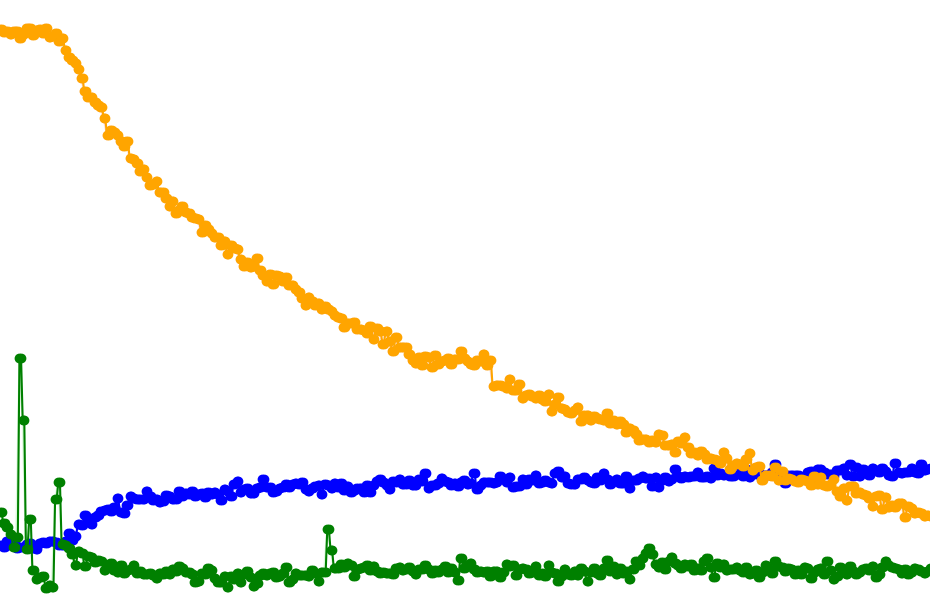CO2 Problem: (311, 0, 583, 616), (777, 0, 930, 616), (349, 0, 466, 616), (466, 0, 583, 616), (661, 0, 777, 616), (77, 0, 155, 616), (155, 0, 233, 616), (233, 0, 311, 616), (583, 0, 661, 616), (699, 0, 777, 616), (777, 0, 855, 616), (0, 0, 77, 616), (855, 0, 930, 616)
Condensation CO2: (349, 0, 544, 616), (777, 0, 930, 616), (661, 0, 777, 616), (77, 0, 155, 616), (155, 0, 233, 616), (583, 0, 661, 616)
Condensation O2: (661, 0, 777, 616), (583, 0, 661, 616)
High CO2: (311, 0, 544, 616), (777, 0, 930, 616), (77, 0, 155, 616), (155, 0, 233, 616), (233, 0, 311, 616), (0, 0, 77, 616), (855, 0, 930, 616)
High O2: (311, 0, 661, 616), (777, 0, 930, 616), (661, 0, 777, 616)
Lid Open: (855, 0, 930, 616)
Low CO2: (233, 0, 661, 616), (349, 0, 583, 616), (466, 0, 661, 616), (661, 0, 777, 616), (77, 0, 155, 616), (155, 0, 233, 616), (233, 0, 311, 616), (583, 0, 661, 616), (699, 0, 777, 616), (777, 0, 855, 616), (0, 0, 77, 616), (855, 0, 930, 616), (311, 0, 349, 616), (661, 0, 699, 616)
Low O2: (661, 0, 930, 616), (777, 0, 930, 616), (777, 0, 855, 616), (855, 0, 930, 616)
Normal: (77, 0, 661, 616), (311, 0, 661, 616), (311, 0, 622, 616), (311, 0, 583, 616), (661, 0, 930, 616), (77, 0, 311, 616), (349, 0, 583, 616), (311, 0, 544, 616), (349, 0, 544, 616), (155, 0, 311, 616), (777, 0, 930, 616), (349, 0, 466, 616), (466, 0, 583, 616), (661, 0, 777, 616), (77, 0, 155, 616), (155, 0, 233, 616), (233, 0, 311, 616), (583, 0, 661, 616), (699, 0, 777, 616), (777, 0, 855, 616), (0, 0, 77, 616), (661, 0, 738, 616), (855, 0, 930, 616), (311, 0, 349, 616), (661, 0, 699, 616)
O2 Problem: (777, 0, 930, 616), (661, 0, 777, 616), (583, 0, 661, 616)
